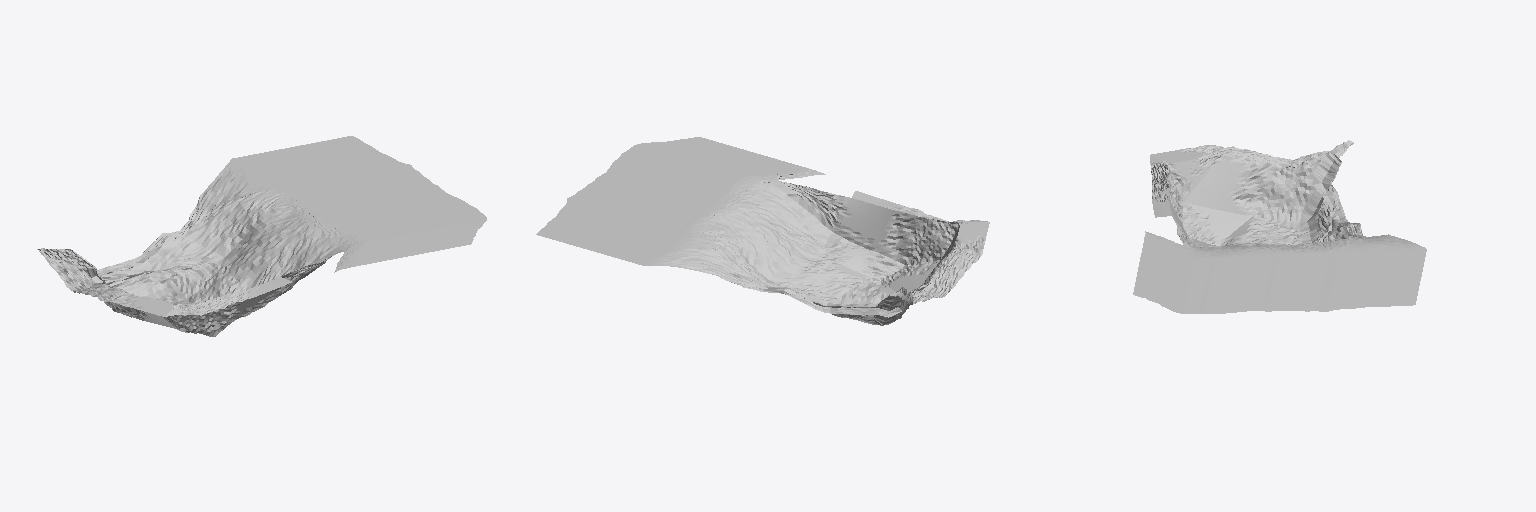
File: beachterrain.obj
The picture shows the model from 3 angles: view 1: azimuth 30°, elevation 25°; view 2: azimuth 150°, elevation 25°; view 3: azimuth 270°, elevation 25°; orthographic projection.
Visible parts, largest first — view 1: Plane.006; view 2: Plane.006; view 3: Plane.006.
Part boxes in pixels (x1,y1,x2,y2): Plane.006: (37, 136, 486, 336); Plane.006: (536, 137, 989, 325); Plane.006: (1133, 140, 1426, 313).
Bounding box in the file's own units: 469 × 77.19 × 327.